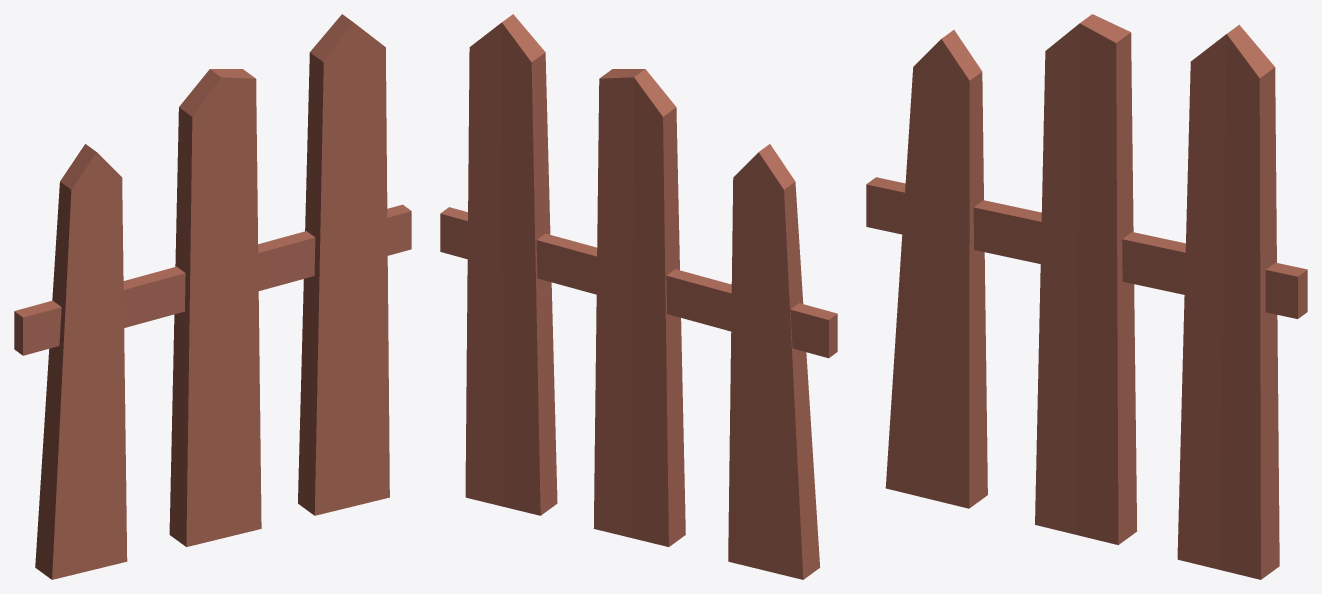
File: Fence_001.fbx
The picture shows the model from 3 angles, left to right: view 1: azimuth 30°, elevation 25°; view 2: azimuth 150°, elevation 25°; view 3: azimuth 330°, elevation 25°; orthographic projection. The views are drawn at different scales.
Visible parts, largest first — view 1: Fence_001; view 2: Fence_001; view 3: Fence_001.
Part boxes in pixels (box(x1,y1,x2,y2)): Fence_001: box(14, 14, 411, 579); Fence_001: box(440, 14, 837, 579); Fence_001: box(866, 14, 1307, 579).
Size of the model in its own units: 266 by 315 by 20.02.
